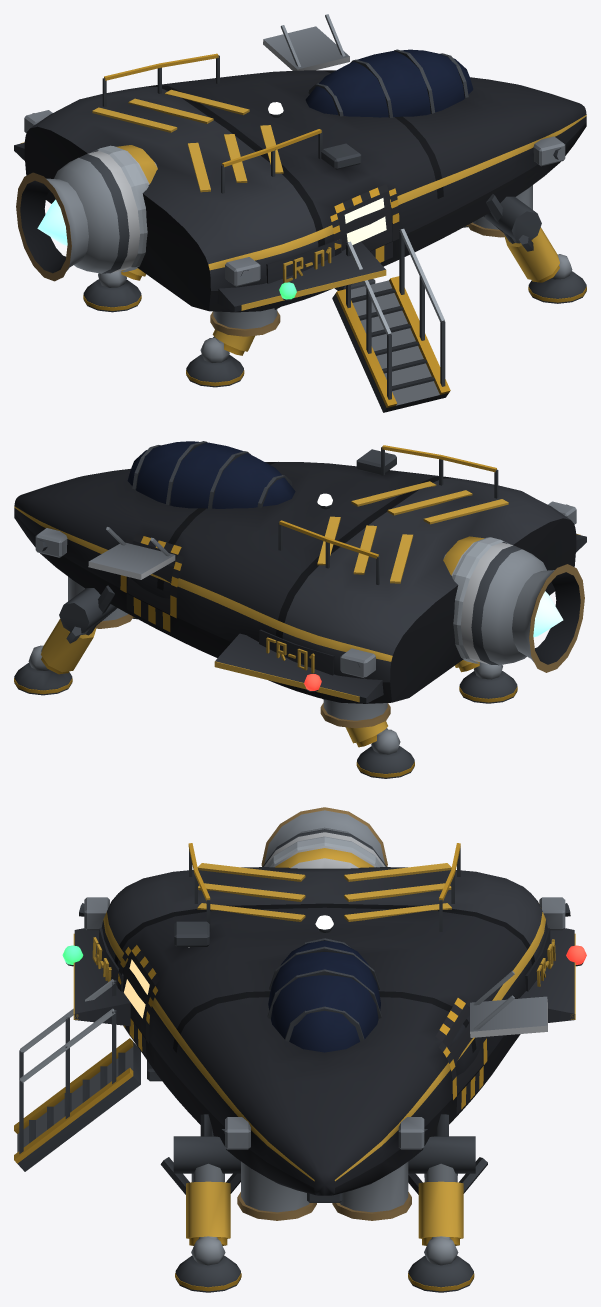
Rendered from ship_courier.glb.
3 views of the same model, one above another, from view 1: azimuth 30°, elevation 25°; view 2: azimuth 150°, elevation 25°; view 3: azimuth 270°, elevation 25° (orthographic). The views are drawn at different scales.
Visible parts, largest first — view 1: Hull, Ramp, Leg_FR, Door_Hatch, Leg_RR, Leg_RL, Lights; view 2: Hull, Leg_FL, Leg_RL, Door_Hatch, Leg_RR; view 3: Hull, Ramp, Leg_FL, Leg_FR, Door_Hatch, Lights.
Boxes of the visible parts, x1,y1,x2,y2 form: Hull: [14, 49, 586, 336]; Ramp: [332, 228, 450, 412]; Leg_FR: [483, 194, 586, 303]; Door_Hatch: [263, 14, 349, 70]; Leg_RR: [186, 306, 280, 387]; Leg_RL: [83, 268, 145, 312]; Lights: [268, 102, 386, 299]; Hull: [14, 441, 586, 728]; Leg_FL: [14, 585, 117, 695]; Leg_RL: [322, 698, 414, 778]; Door_Hatch: [88, 527, 175, 579]; Leg_RR: [455, 660, 517, 703]; Hull: [66, 807, 583, 1220]; Ramp: [14, 979, 140, 1171]; Leg_FL: [408, 1114, 487, 1292]; Leg_FR: [160, 1114, 241, 1292]; Door_Hatch: [470, 970, 547, 1037]; Lights: [62, 915, 586, 1082].
Bounding box in the file's own units: 8.33 × 3.26 × 6.64.
